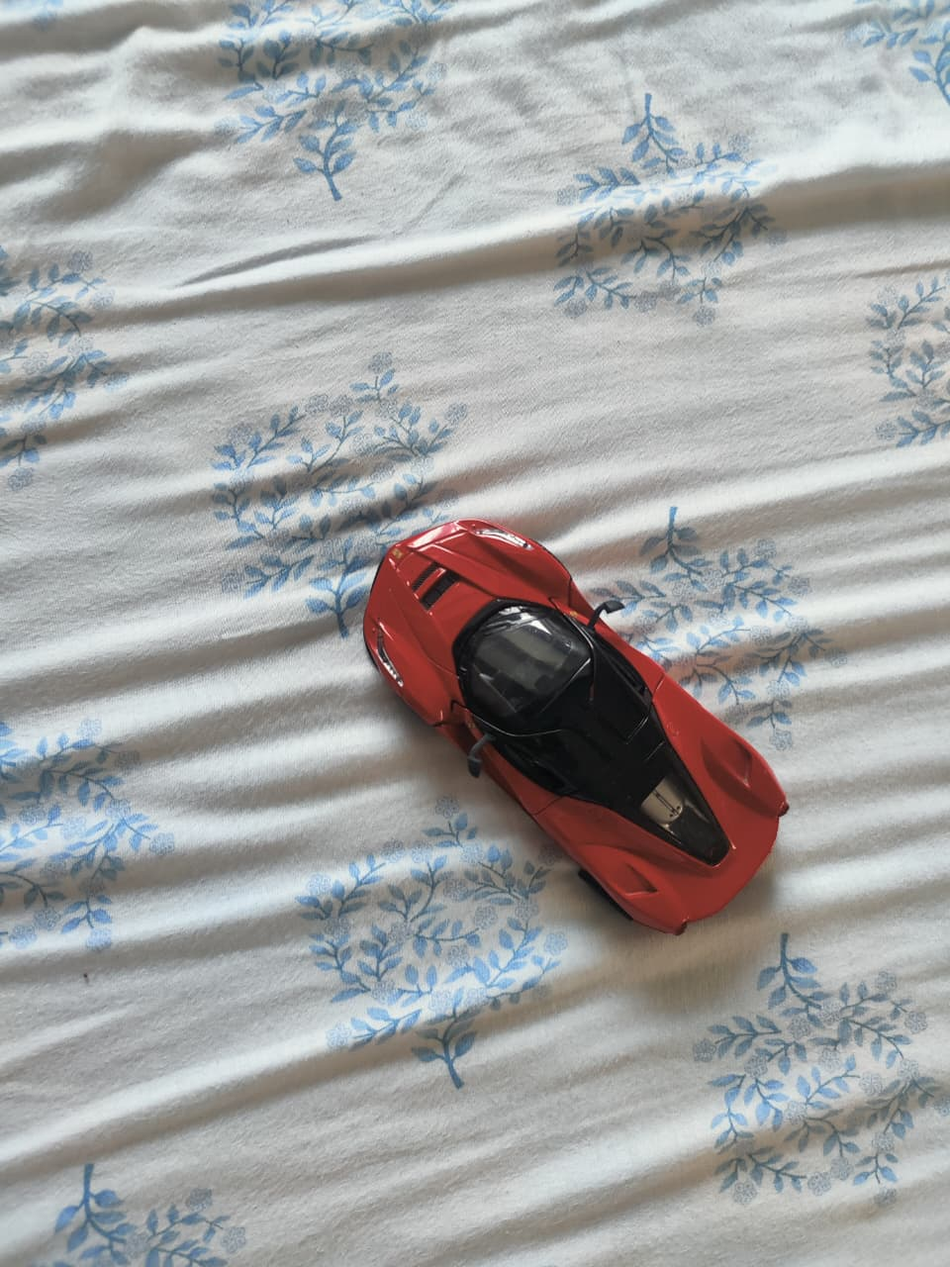car: (363, 517, 792, 939)
